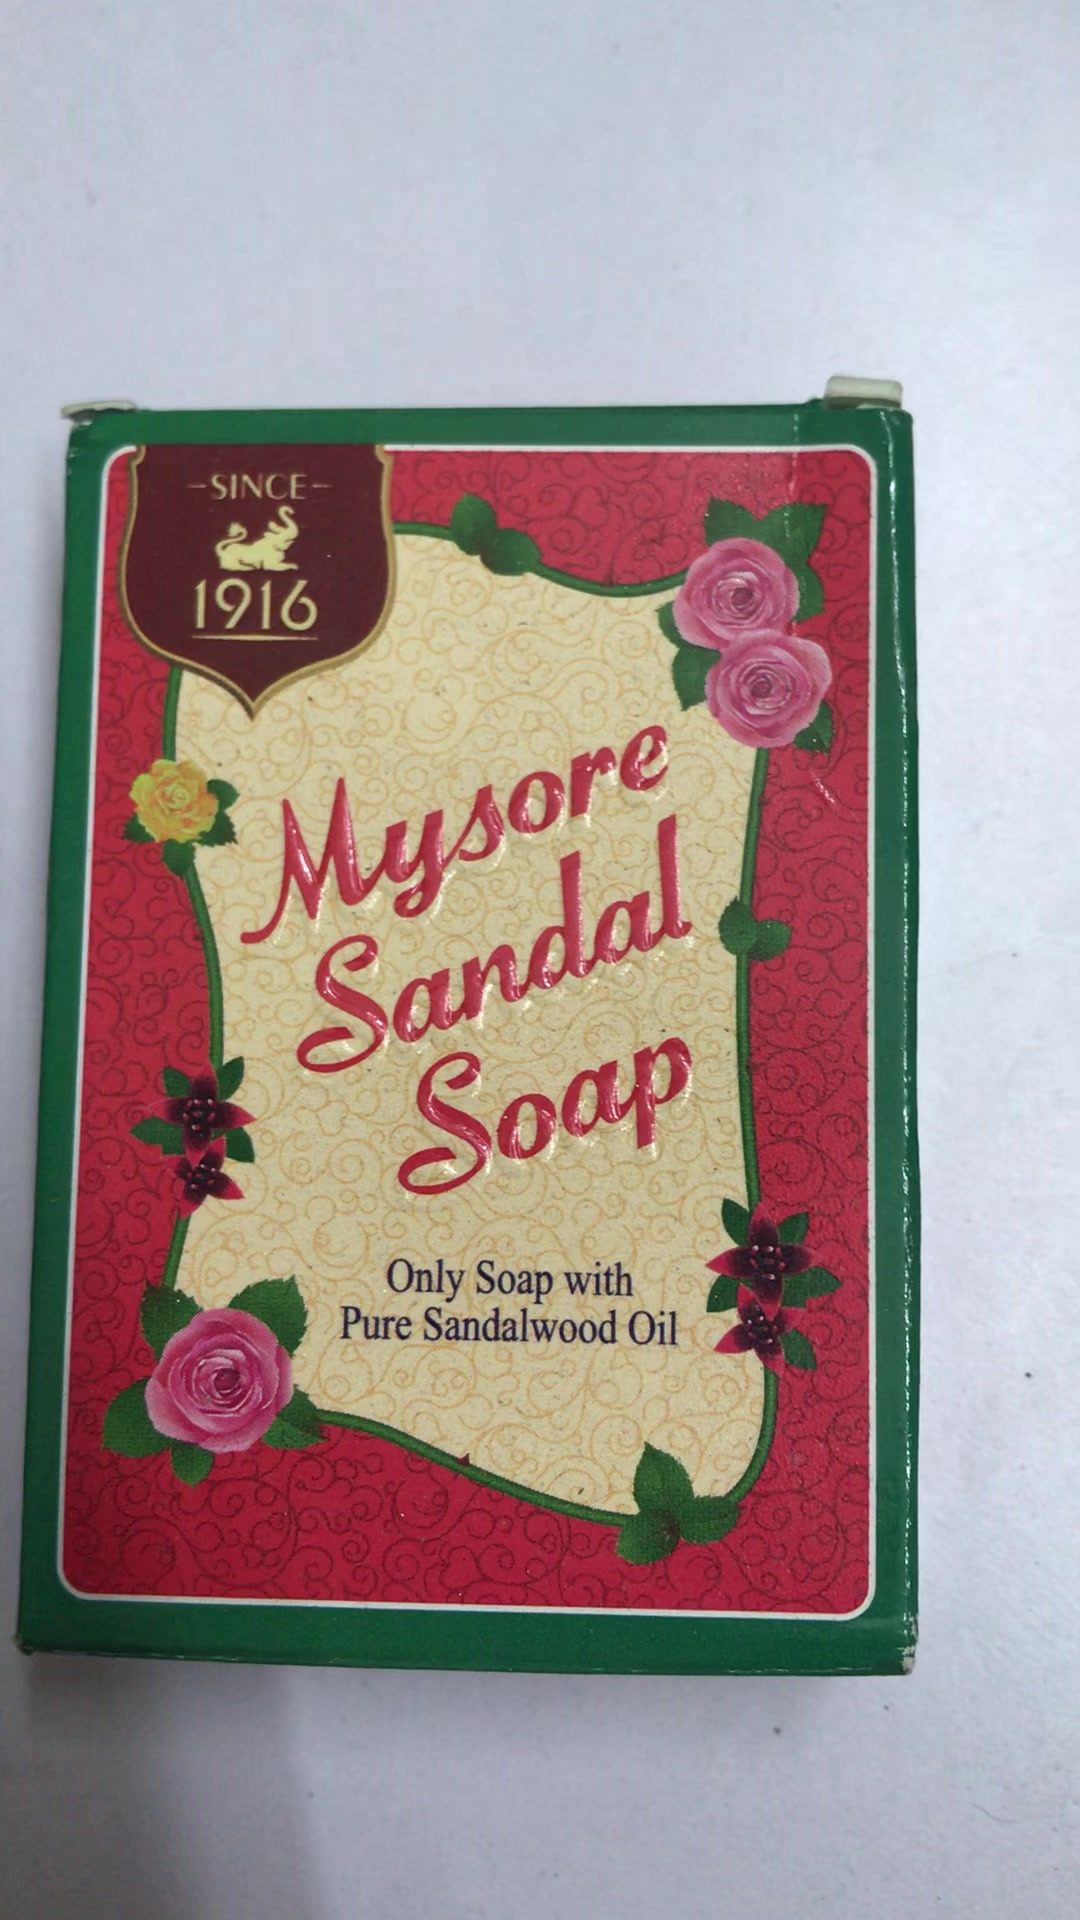mysore sandal soap: (28, 411, 918, 1677)
